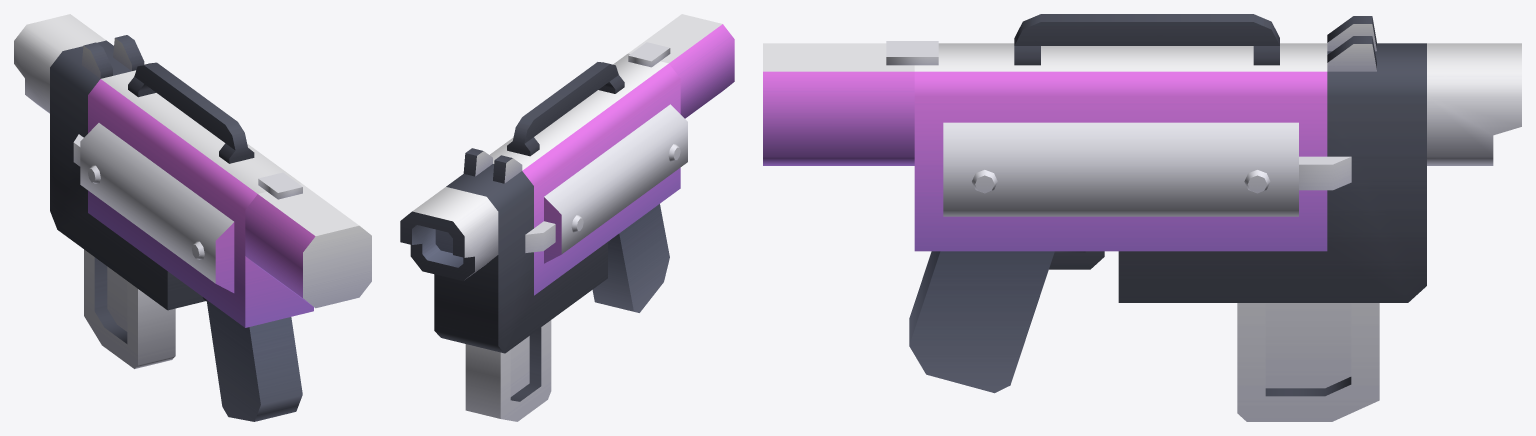
The model's file is blaster-a.glb.
3 views of the same model, side by side, from view 1: azimuth 30°, elevation 25°; view 2: azimuth 150°, elevation 25°; view 3: azimuth 270°, elevation 25° (orthographic). The views are drawn at different scales.
Parts seen in each view (by area): view 1: blaster-a, magazine; view 2: blaster-a, magazine; view 3: blaster-a, magazine.
Part boxes in pixels (<box>): blaster-a: <box>14,14,371,421</box>; magazine: <box>84,249,175,368</box>; blaster-a: <box>400,14,734,353</box>; magazine: <box>465,320,551,421</box>; blaster-a: <box>763,14,1521,393</box>; magazine: <box>1237,303,1379,421</box>.
Size of the model in its own units: 0.1838 by 0.4559 by 0.8.
Materials: 1 (1 with a texture image).
